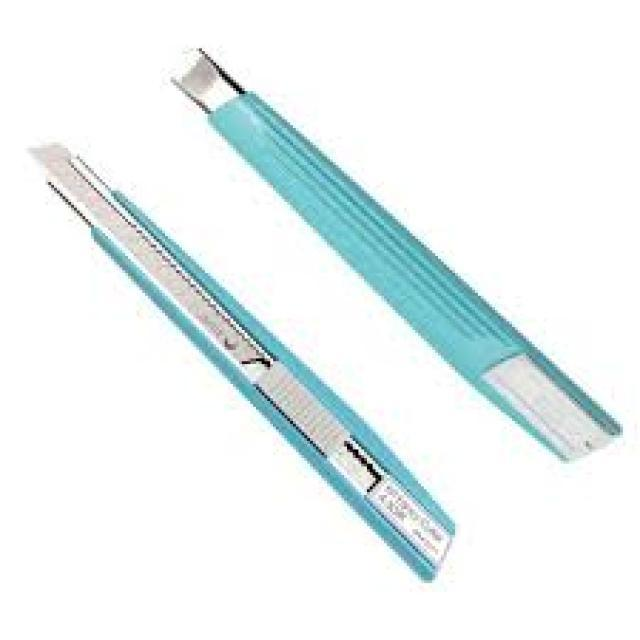cutter: (150, 36, 624, 467), (27, 143, 461, 586)
